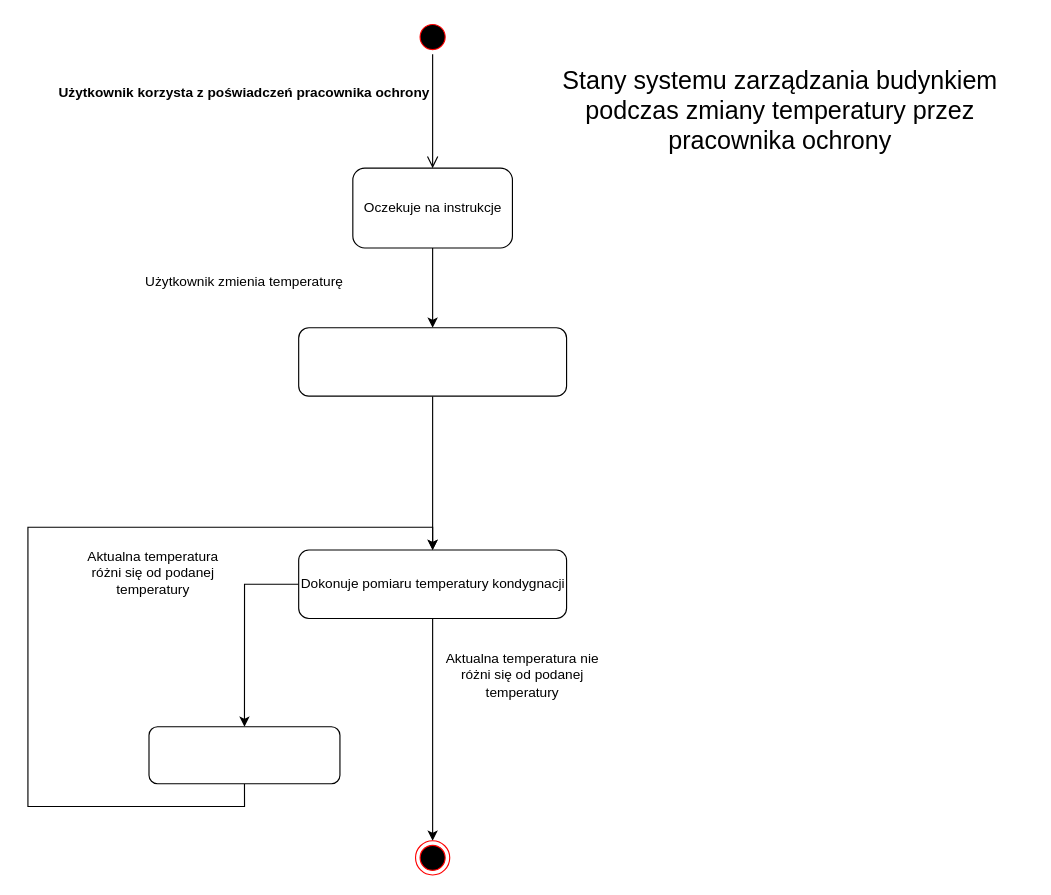
This 1051x895 diagram has some shape labels left out. The centre of each missing label's shape, as x and y in pixels:
Otrzymuje instrukcję zmiany temperatury: (x=432, y=361)
Zmienia ustawienia ogrzewania i wentylacji: (x=244, y=755)
